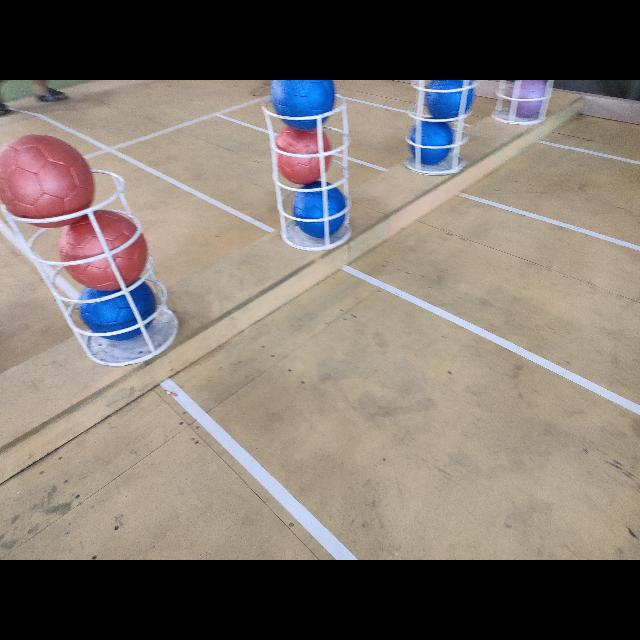B: (79, 286, 155, 340), (270, 80, 336, 130), (292, 182, 346, 238), (408, 118, 454, 166), (425, 82, 473, 120)
R: (0, 134, 94, 228), (59, 212, 147, 286), (270, 130, 332, 180)
